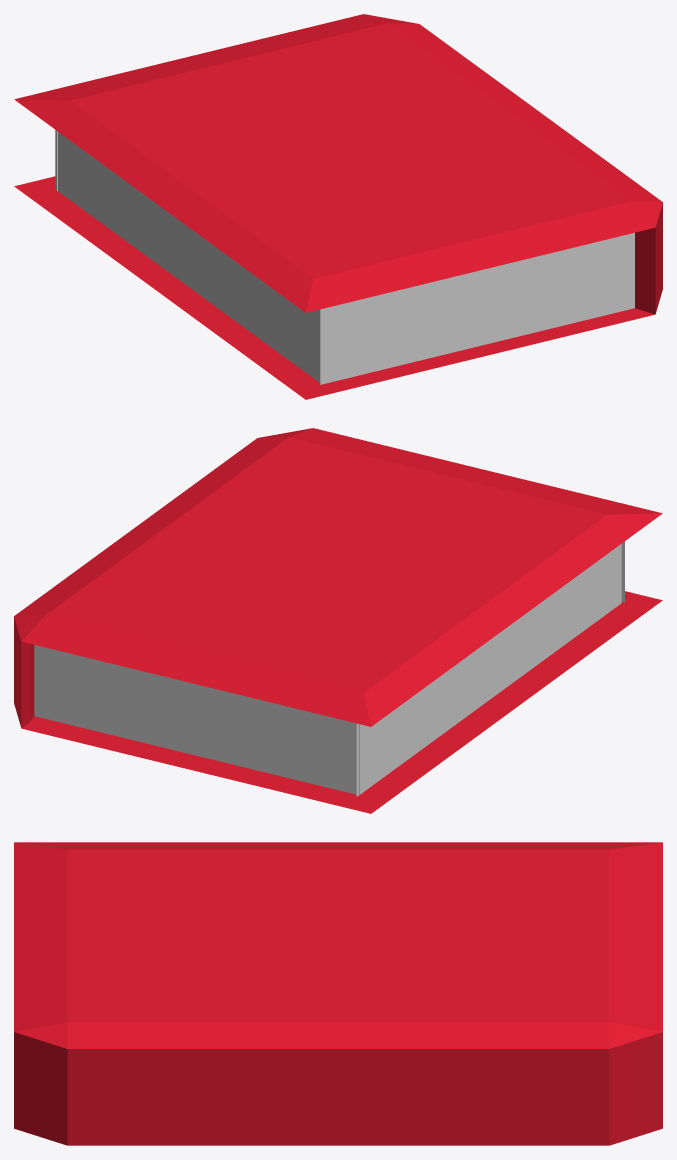
Rendered from book.fbx.
3 views of the same model, one above another, from view 1: azimuth 30°, elevation 25°; view 2: azimuth 150°, elevation 25°; view 3: azimuth 270°, elevation 25° (orthographic). The views are drawn at different scales.
Visible parts, largest first — view 1: Cube; view 2: Cube; view 3: Cube.
Boxes of the visible parts, x1,y1,x2,y2 form: Cube: (14, 14, 662, 399); Cube: (14, 428, 662, 813); Cube: (14, 842, 662, 1145).
Size of the model in its own units: 151 by 39.42 by 200.
